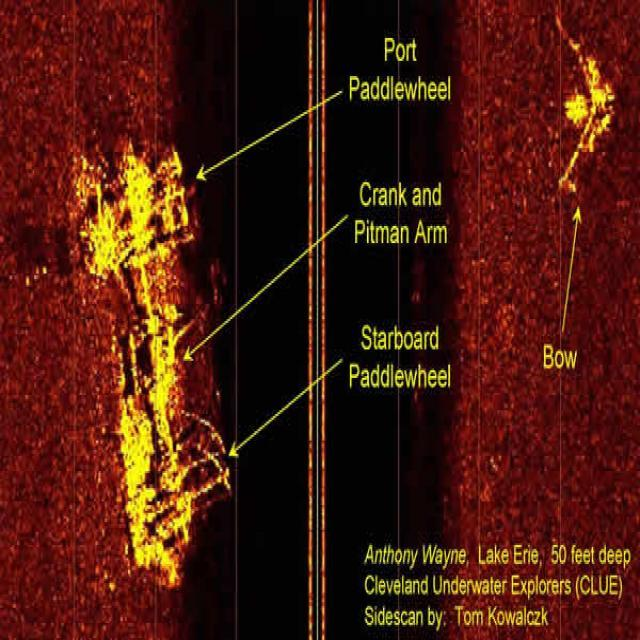shipwreck: (83, 144, 221, 581)
